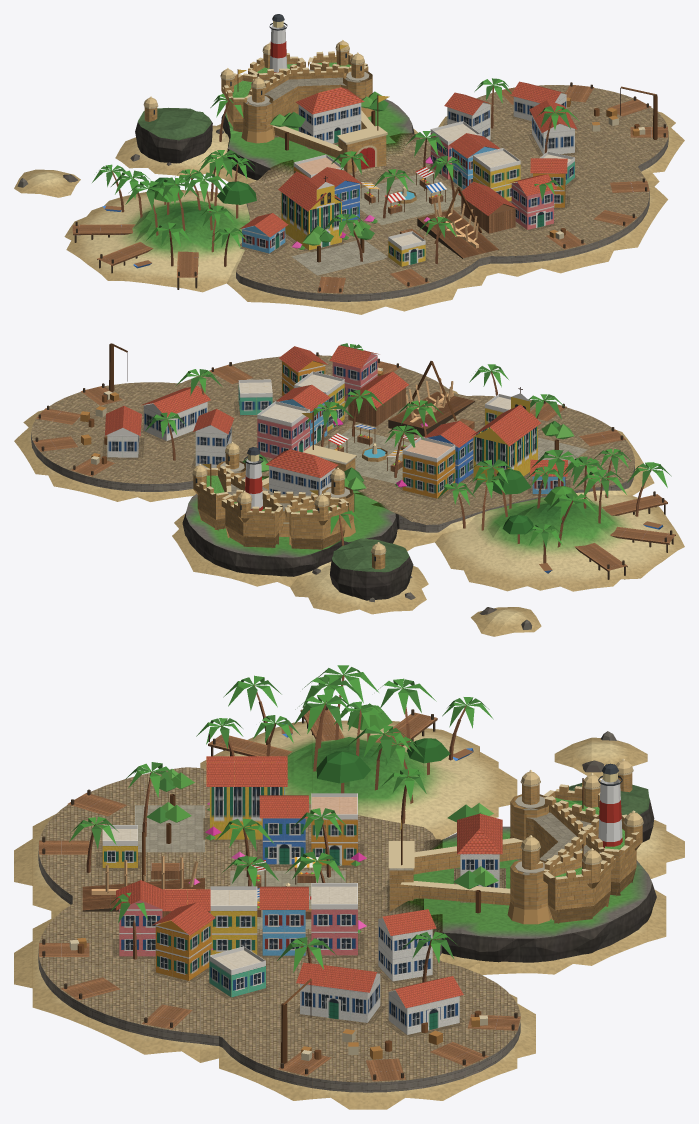
Rendered from island_port.64aadaf2.glb.
3 renders of one model, top to bottom at view 1: azimuth 30°, elevation 25°; view 2: azimuth 150°, elevation 25°; view 3: azimuth 270°, elevation 25°, orthographic. The views are drawn at different scales.
Visible parts, largest first — view 1: island_port_lod0; view 2: island_port_lod0; view 3: island_port_lod0.
Boxes of the visible parts, <box> form: island_port_lod0: <box>14,14,684,314</box>; island_port_lod0: <box>14,343,684,636</box>; island_port_lod0: <box>14,665,684,1109</box>.
Size of the model in its own units: 98 by 17.67 by 72.
Materials: 1 (1 with a texture image).
